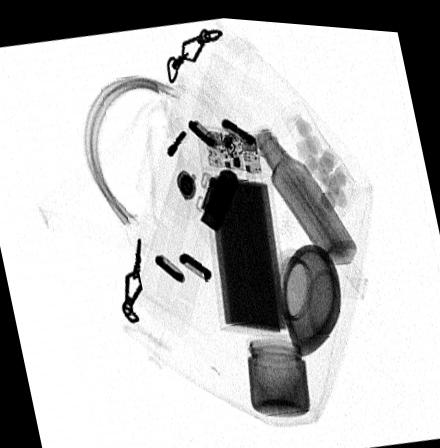Powerbank: (196, 123, 288, 332)
